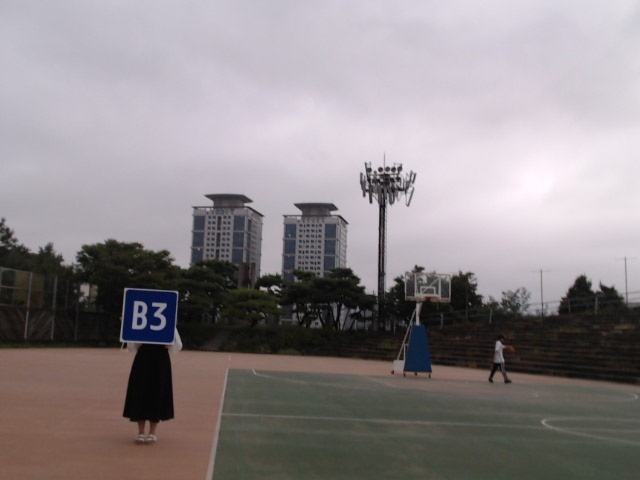delivery_b3: (121, 287, 179, 343)
